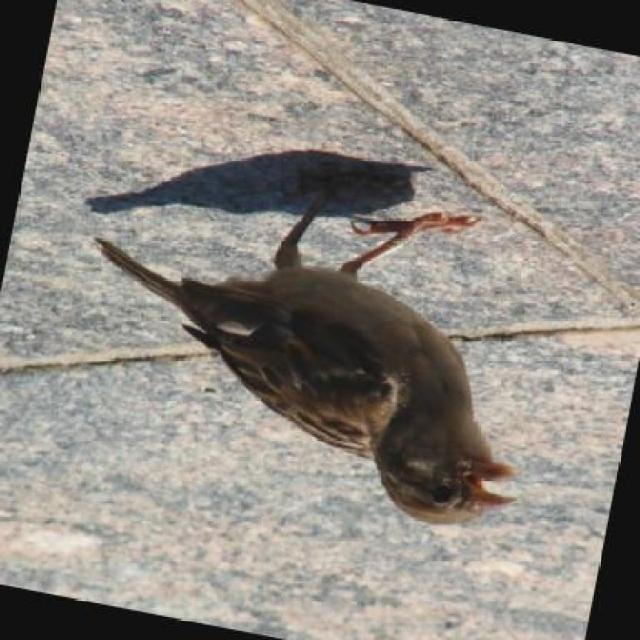sparrow: (44, 133, 582, 564)
